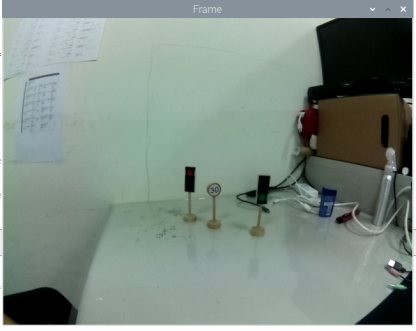Green: (254, 172, 271, 206)
Red: (182, 164, 198, 196)
Speed30: (206, 180, 225, 197)
